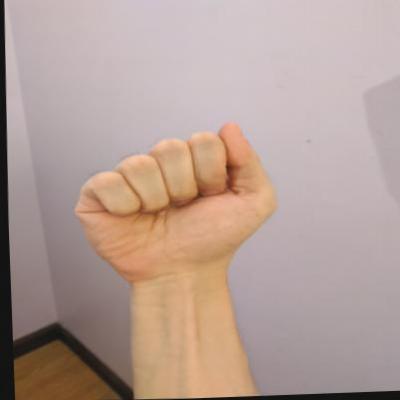hand: (62, 115, 284, 286)
